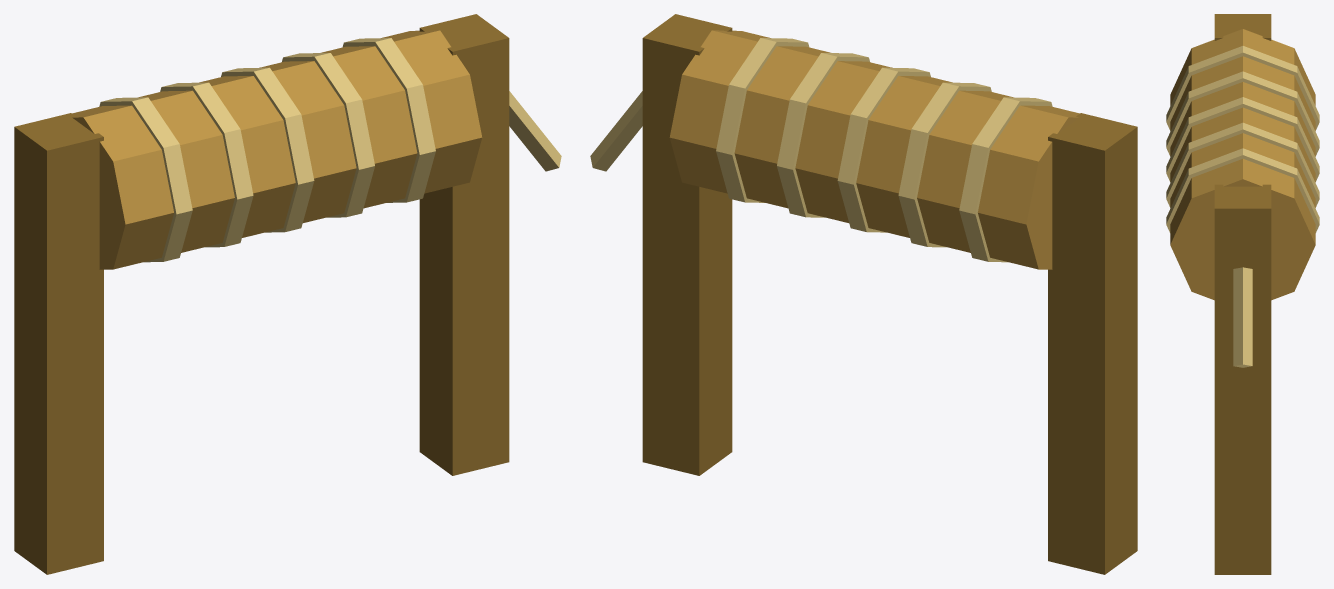
Rendered from mine_winch.glb.
3 renders of one model, left to right at view 1: azimuth 30°, elevation 25°; view 2: azimuth 150°, elevation 25°; view 3: azimuth 270°, elevation 25°, orthographic. The views are drawn at different scales.
Parts seen in each view (by area): view 1: winch drum, winch post, winch post.001, rope turn, rope turn.004, rope turn.002, rope turn.003, rope turn.001, winch crank; view 2: winch drum, winch post, winch post.001, rope turn, rope turn.004, rope turn.002, rope turn.003, rope turn.001, winch crank; view 3: winch drum, winch post.001, rope turn.003, rope turn, rope turn.002, rope turn.004, rope turn.001, winch crank, winch post.
Part boxes in pixels (x1,y1,x2,y2): winch drum: (72,30,482,269); winch post: (14,113,103,574); winch post.001: (419,14,509,475); rope turn: (99,97,192,262); rope turn.004: (342,38,435,202); rope turn.002: (221,67,314,232); rope turn.003: (282,53,374,217); rope turn.001: (160,82,253,247); winch crank: (509,91,561,171); winch drum: (669,30,1079,269); winch post: (1048,113,1137,574); winch post.001: (642,14,732,475); rope turn: (959,97,1052,262); rope turn.004: (716,38,809,202); rope turn.002: (837,67,930,232); rope turn.003: (777,53,869,217); rope turn.001: (898,82,991,247); winch crank: (590,91,642,171); winch drum: (1170,29,1315,300); winch post.001: (1214,184,1271,574); rope turn.003: (1166,122,1319,207); rope turn: (1166,46,1319,130); rope turn.002: (1166,97,1319,181); rope turn.004: (1166,148,1319,232); rope turn.001: (1166,71,1319,155); winch crank: (1233,267,1252,367); winch post: (1214,14,1271,40).
Bounding box in the file's own units: 0.6548 × 0.515 × 0.19.
